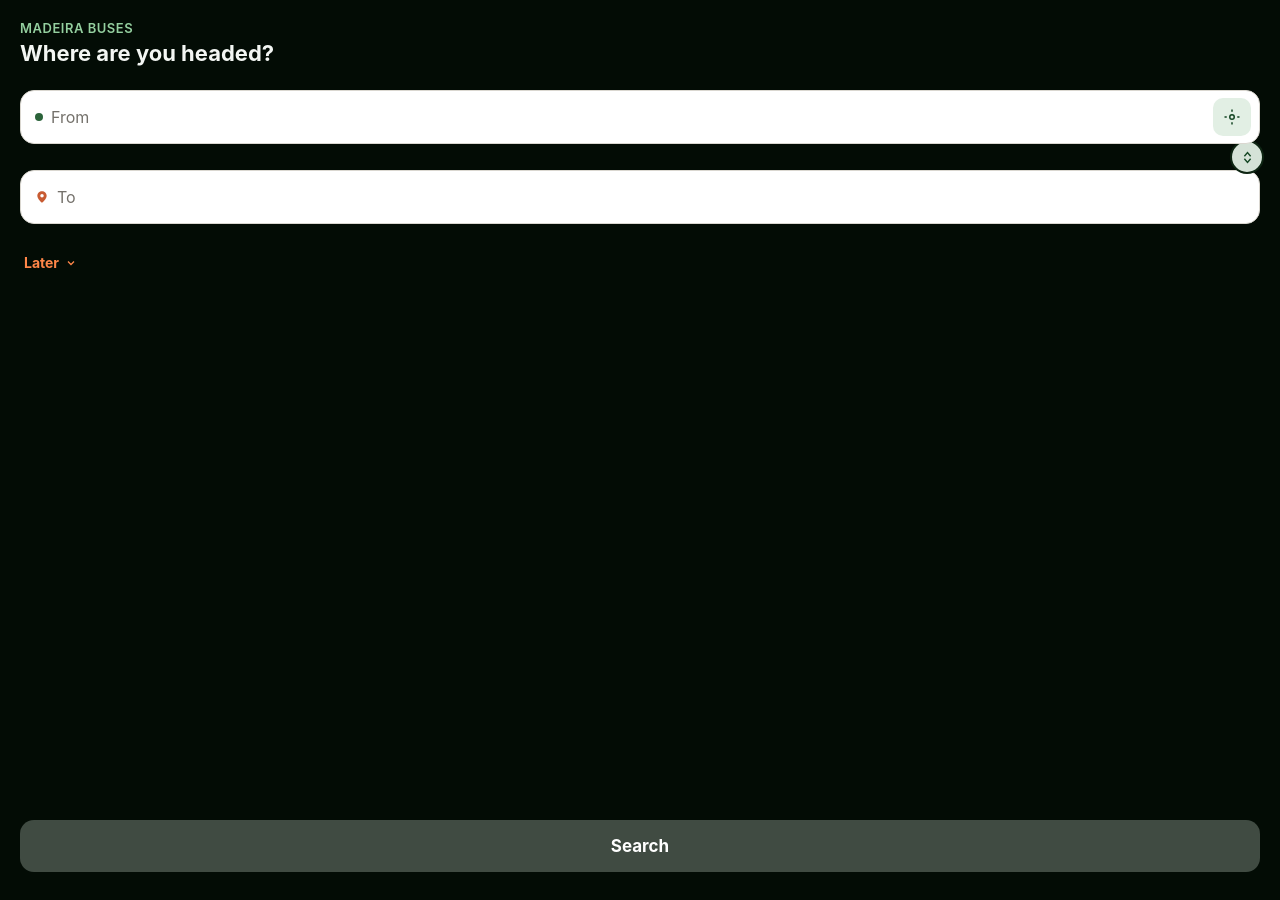
SearchScreen › disables Search until both endpoints are picked
The width and height of the screenshot is (1280, 900).
Expected: the button "Search" is disabled, [20,820,1260,872]
In the field labelled "From": (628,117) [43,93,1213,141], type "Funchal"
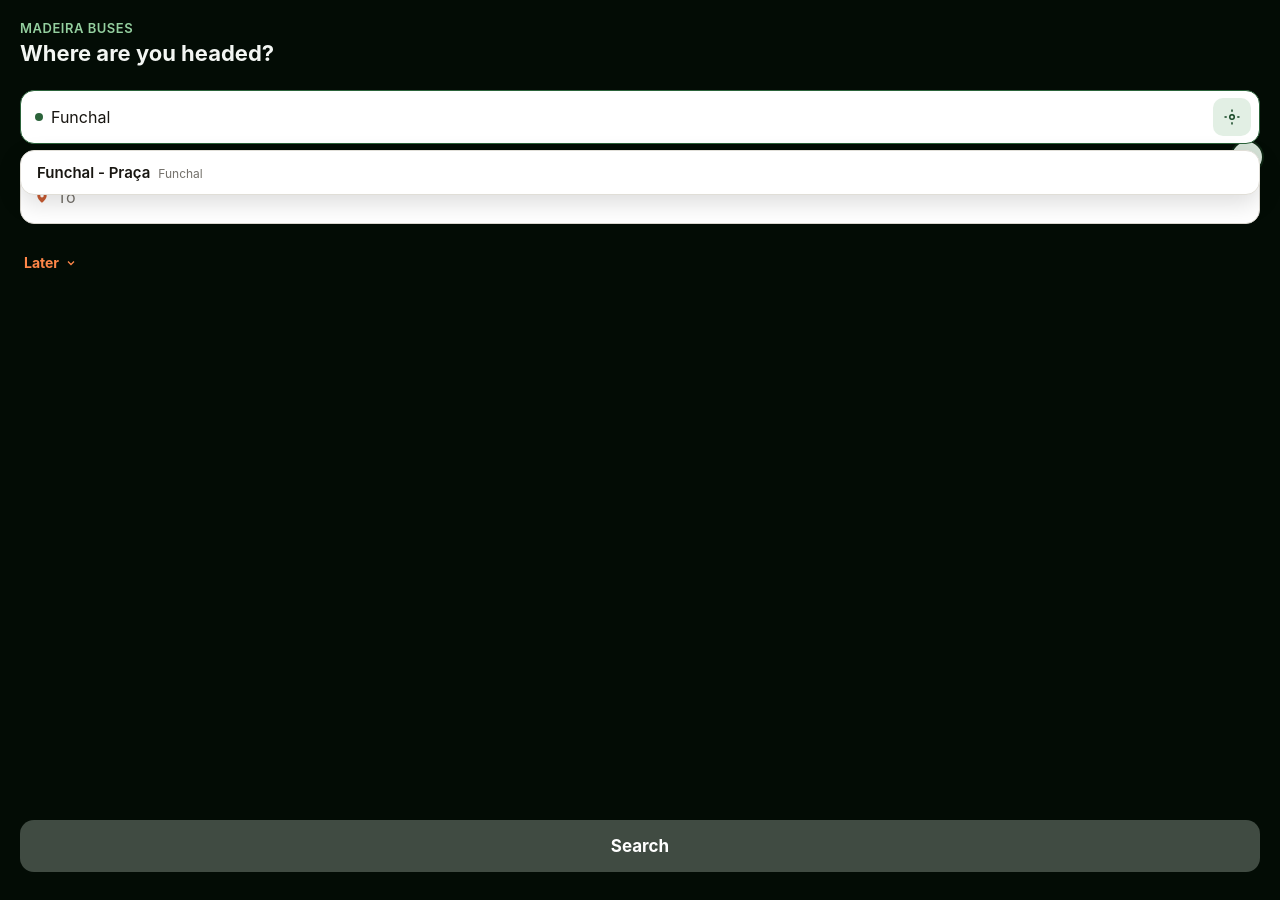
Now the text "Funchal - Praça" is shown
Click the text "Funchal - Praça": (94,172) [37,163,150,182]
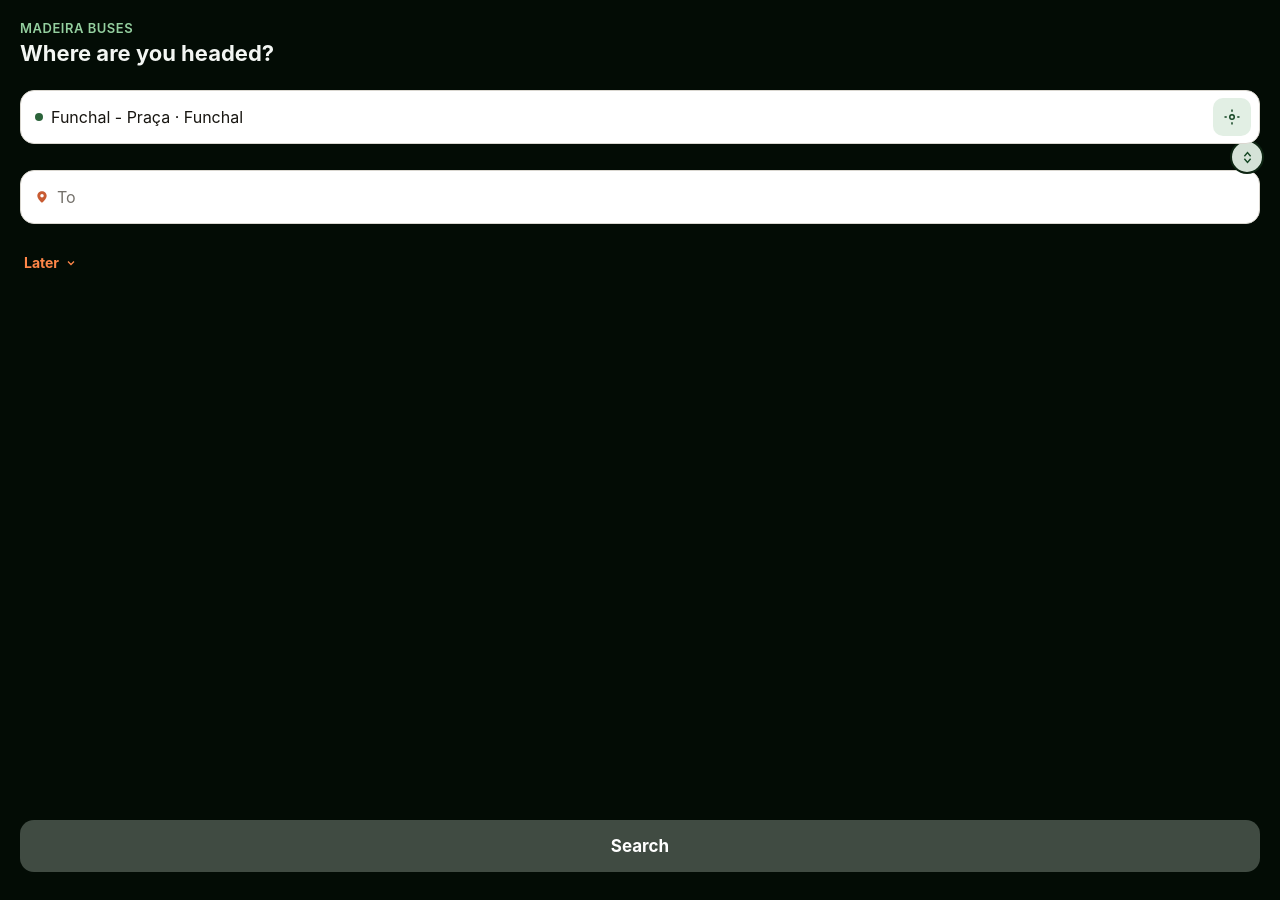
Expected: the button "Search" is disabled, [20,820,1260,872]
In the field labelled "To": (650,197) [49,173,1251,221], type "Calheta"
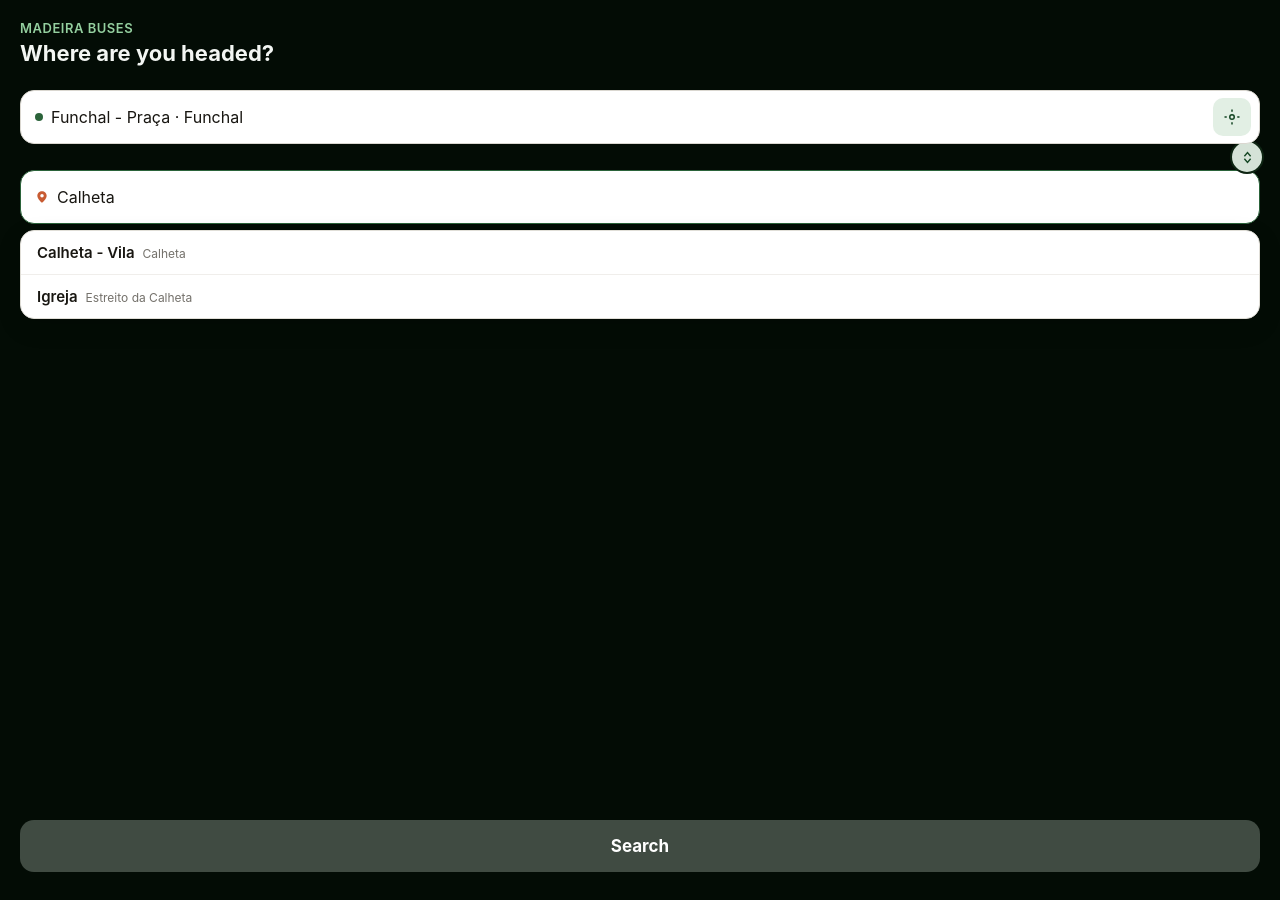
Click the text "Calheta - Vila": (86,252) [37,243,134,262]
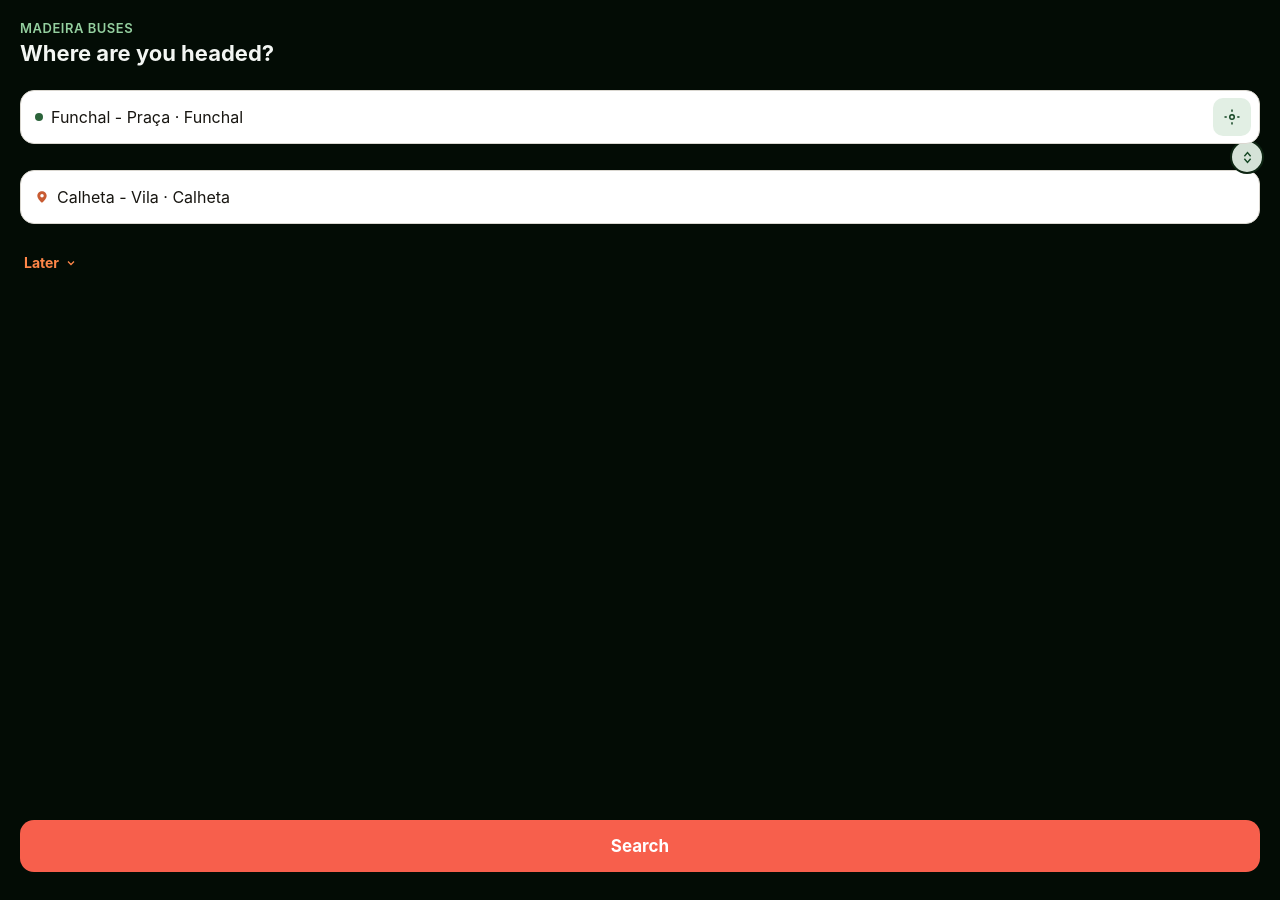
Now the button "Search" is enabled, box [20,820,1260,872]
